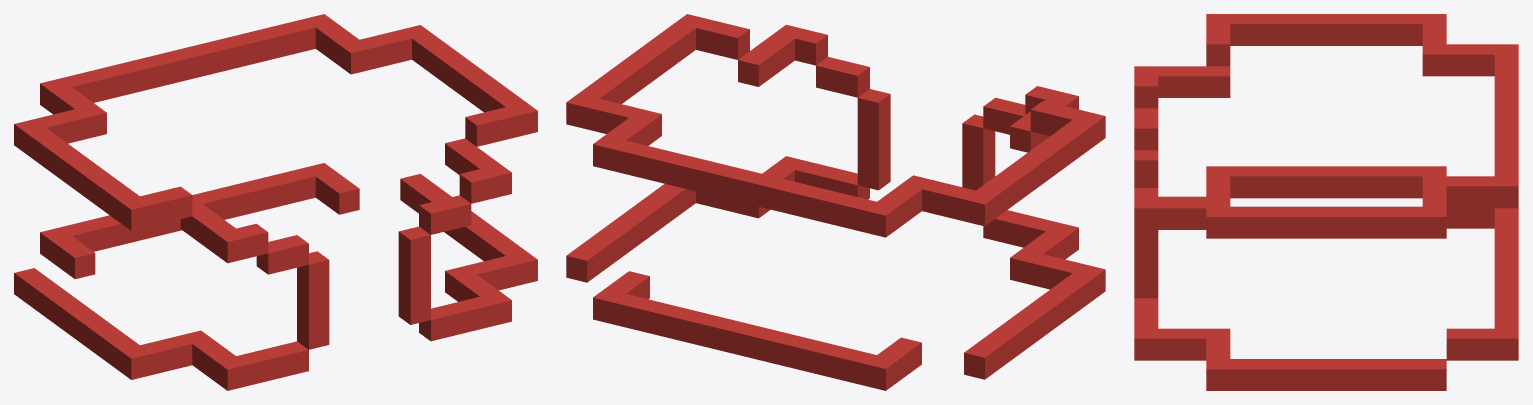
3 renders of one model, left to right at view 1: azimuth 30°, elevation 25°; view 2: azimuth 150°, elevation 25°; view 3: azimuth 270°, elevation 25°, orthographic. The views are drawn at different scales.
Parts seen in each view (by area): view 1: 34.1; view 2: 34.1; view 3: 34.1.
Boxes of the visible parts, bbox=[...] form: 34.1: bbox=[14, 14, 537, 390]; 34.1: bbox=[566, 14, 1105, 390]; 34.1: bbox=[1134, 14, 1518, 390].
Bounding box in the file's own units: 200 × 80 × 160.
Materials: 1 (1 with a texture image).
